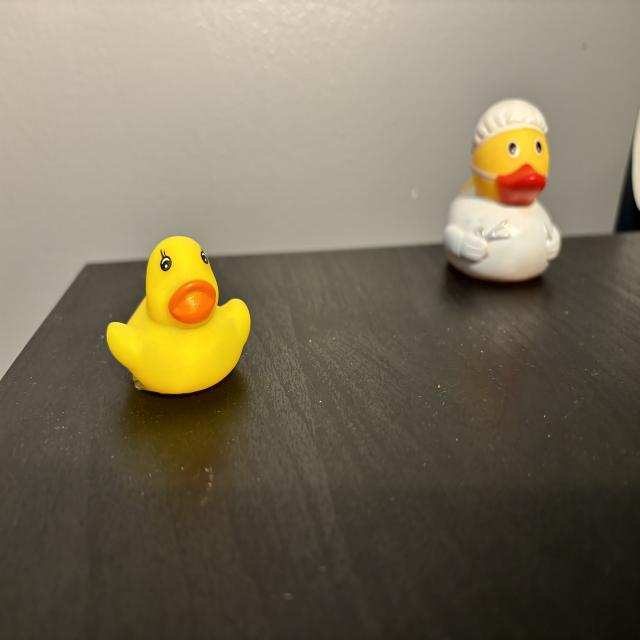duck_regular: (107, 237, 252, 396)
duck_specialty: (447, 100, 563, 283)
